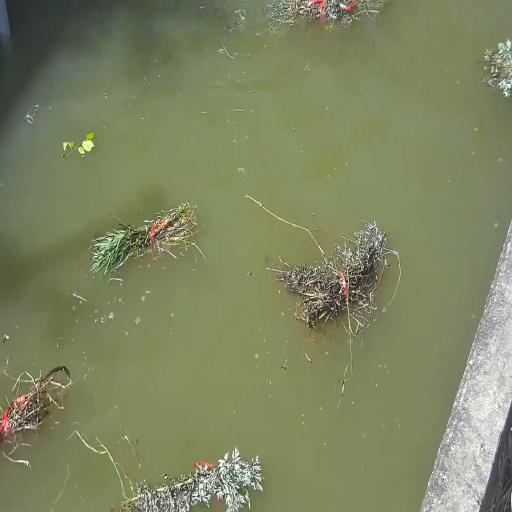twig: (287, 217, 397, 348), (123, 447, 263, 512), (94, 202, 199, 275), (0, 355, 63, 450), (266, 0, 391, 37), (473, 42, 512, 99), (60, 125, 96, 167)
